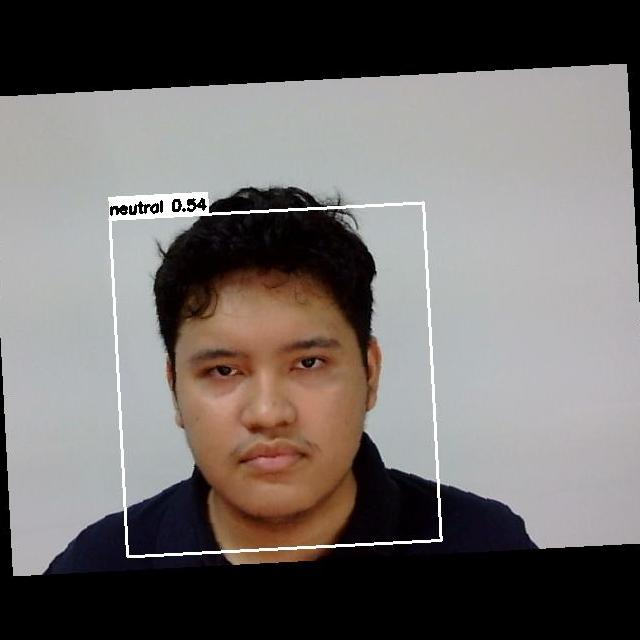Natural: (159, 327, 378, 499)
